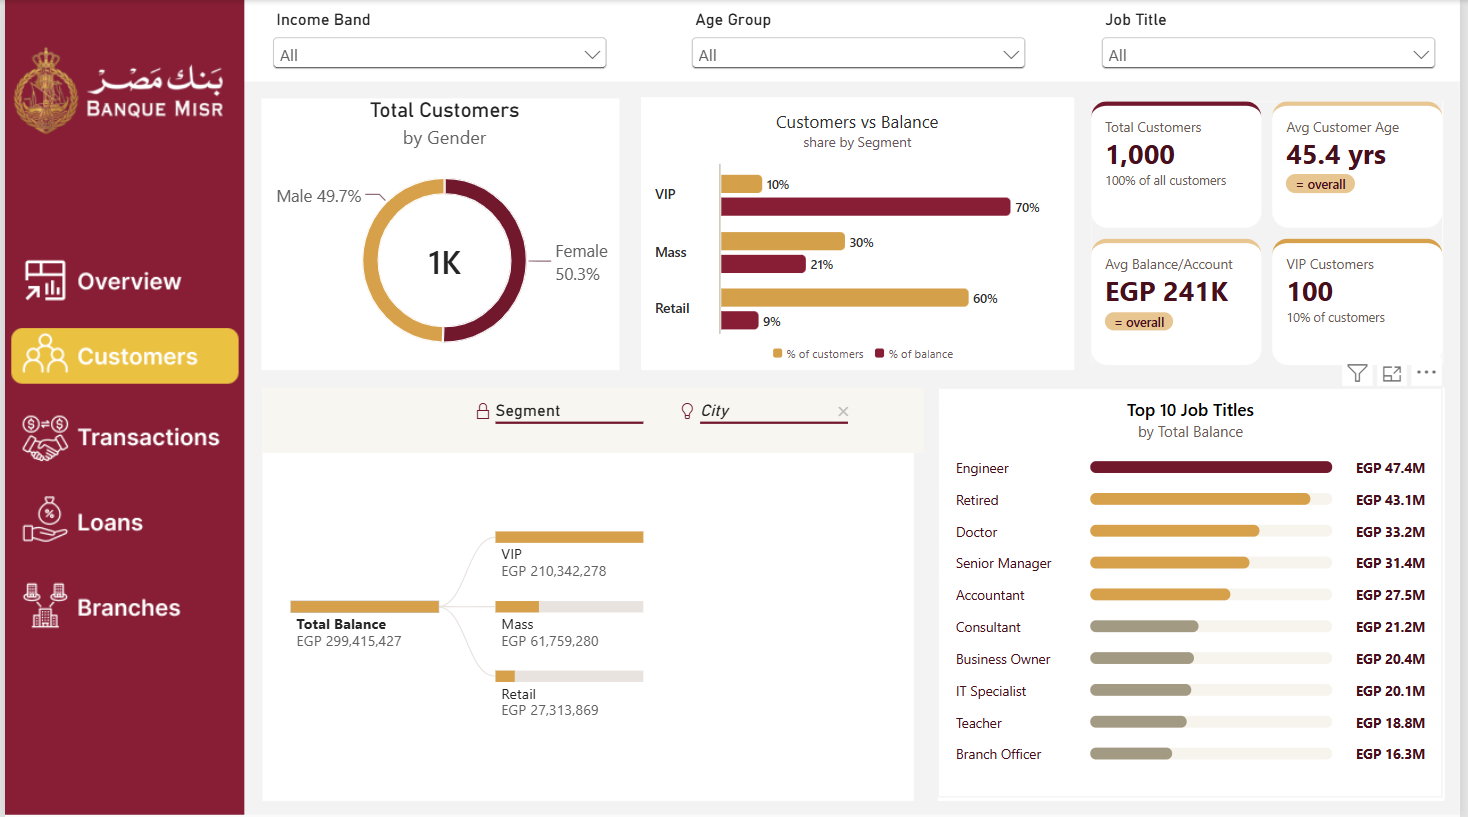

The page's visual inventory and layout, read from the dashboard file:
{"tool":"powerbi","page":{"name":"Customers","canvas":[1280,720],"ordinal":2},"visuals":[{"type":"slicer","fields":{"Values":["DimCustomers.Income Band"]},"box":[231,8.3,303.6,63.1],"z":0},{"type":"slicer","fields":{"Values":["DimCustomers.Age Group"]},"box":[598.8,8.3,303.6,63.1],"z":1000},{"type":"slicer","fields":{"Values":["DimCustomers.Job_Title"]},"box":[959.5,8.3,303.6,63.1],"z":2000},{"type":"actionButton","box":[3.6,221.4,206,52.4],"z":3000},{"type":"actionButton","box":[1.2,359.5,206,52.4],"z":4000},{"type":"actionButton","box":[2.4,432.1,206,52.4],"z":5000},{"type":"actionButton","box":[2.4,506,206,52.4],"z":6000},{"type":"htmlContent443BE3AD55E043BF878BED274D3A6855","fields":{"content":["HTML.HTML KPI Customers"]},"box":[956,89.3,309.5,232.1],"z":7000},{"type":"htmlContent443BE3AD55E043BF878BED274D3A6855","fields":{"content":["HTML.HTML Customers Top 10 Job Titles"]},"box":[820,341,445,361],"z":8000},{"type":"donutChart","fields":{"Category":["DimCustomers.Gender"],"Y":["Dax.Total Customers"]},"box":[226.2,85.7,320.2,239.3],"z":9000},{"type":"decompositionTreeVisual","fields":{"Analyze":["Dax.Total Balance"],"ExplainBy":["DimCustomers.Segment","DimCustomers.City"]},"box":[226.2,340.5,582.1,364.3],"z":10000},{"type":"htmlContent443BE3AD55E043BF878BED274D3A6855","fields":{"content":["HTML.HTML Customer vs Balance Share"]},"box":[559.5,85.7,380,239],"z":11000}]}

Visuals, with their boxes in screenshot pixels (x1, y1, x2, y2), scaled from the page's 1280x720 canvas onto the 1468x817 screenshot:
slicer - DimCustomers.Income Band: 265, 9, 613, 81
slicer - DimCustomers.Age Group: 687, 9, 1035, 81
slicer - DimCustomers.Job_Title: 1100, 9, 1449, 81
actionButton: 4, 251, 240, 311
actionButton: 1, 408, 238, 467
actionButton: 3, 490, 239, 550
actionButton: 3, 574, 239, 634
htmlContent443BE3AD55E043BF878BED274D3A6855 - HTML.HTML KPI Customers: 1096, 101, 1451, 365
htmlContent443BE3AD55E043BF878BED274D3A6855 - HTML.HTML Customers Top 10 Job Titles: 940, 387, 1451, 797
donutChart - DimCustomers.Gender x Dax.Total Customers: 259, 97, 627, 369
decompositionTreeVisual - Dax.Total Balance x DimCustomers.Segment: 259, 386, 927, 800
htmlContent443BE3AD55E043BF878BED274D3A6855 - HTML.HTML Customer vs Balance Share: 642, 97, 1077, 368
